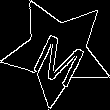M_NE: (26, 19, 89, 85)
